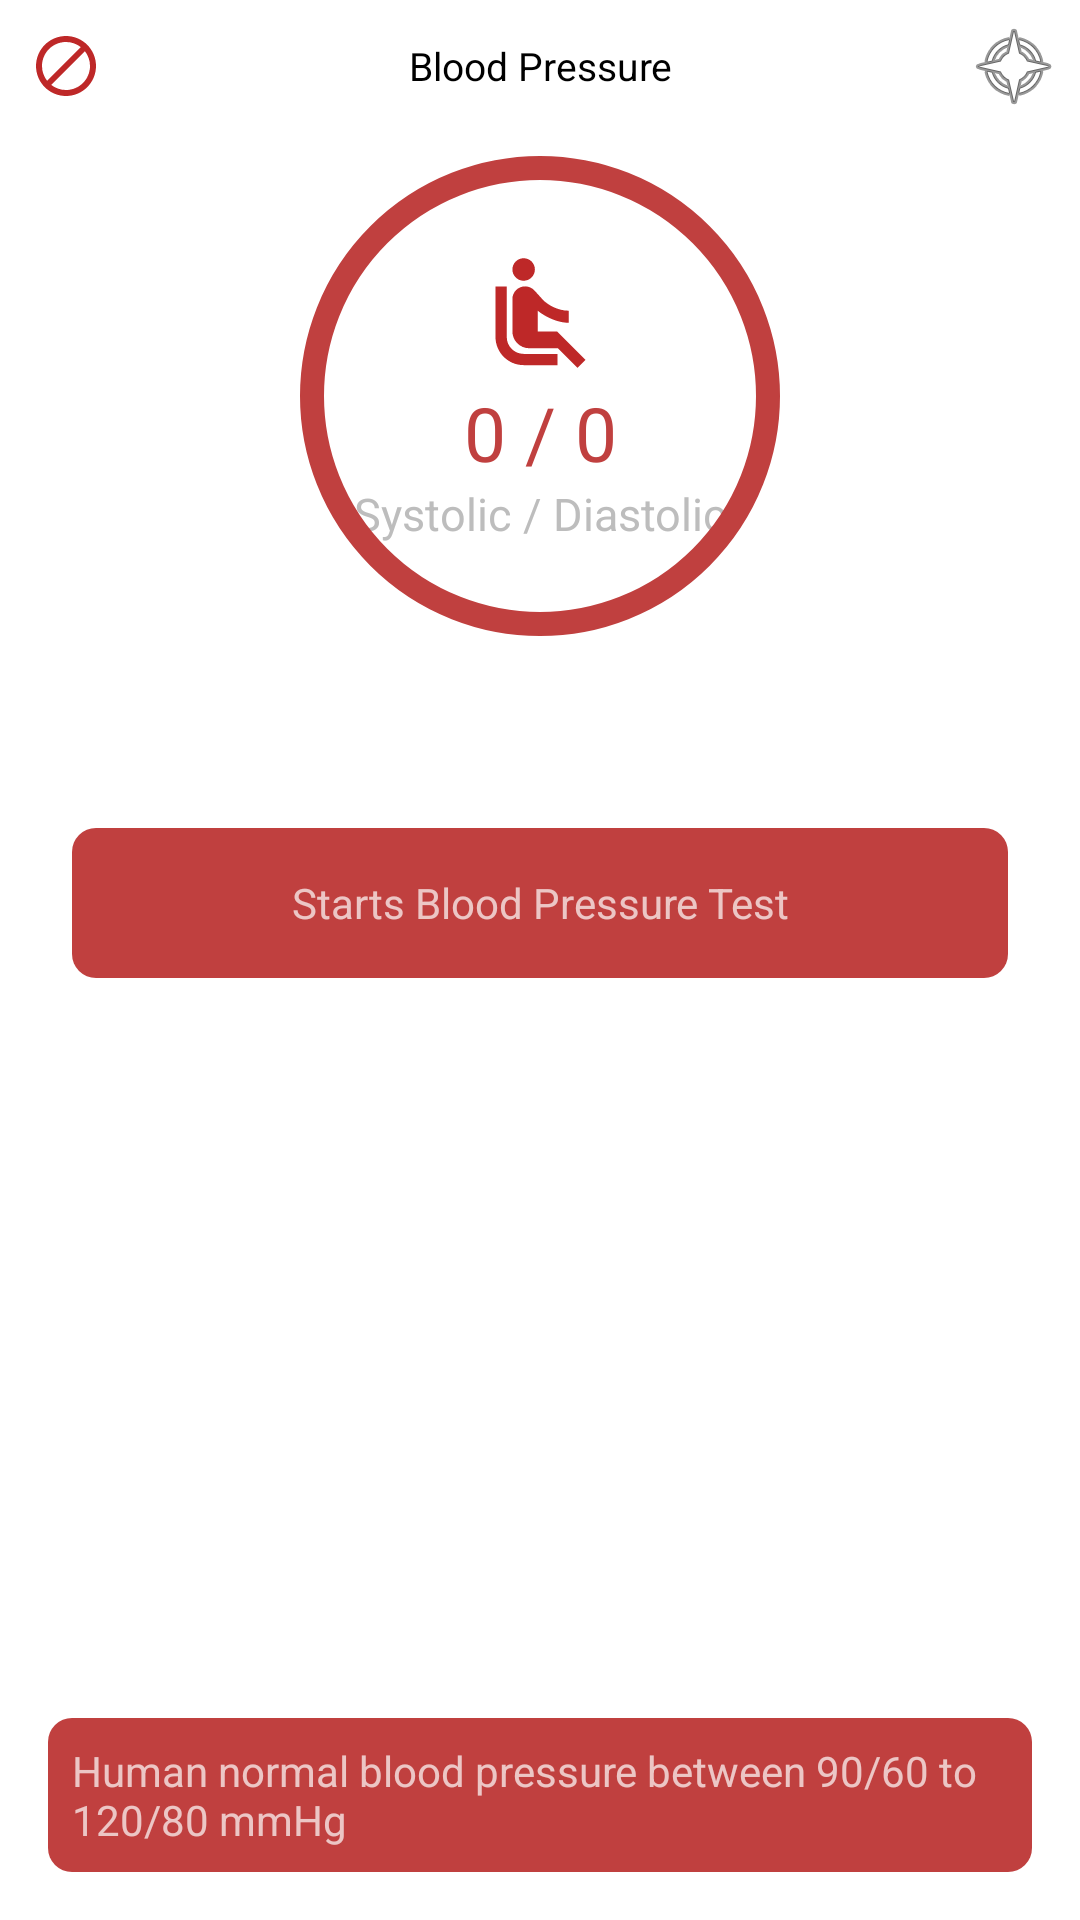

Where to tap for icons on this 1080 x 1920 app screen, as (x=x, y=y):
block: (x=66, y=66)
compass: (x=1014, y=66)
